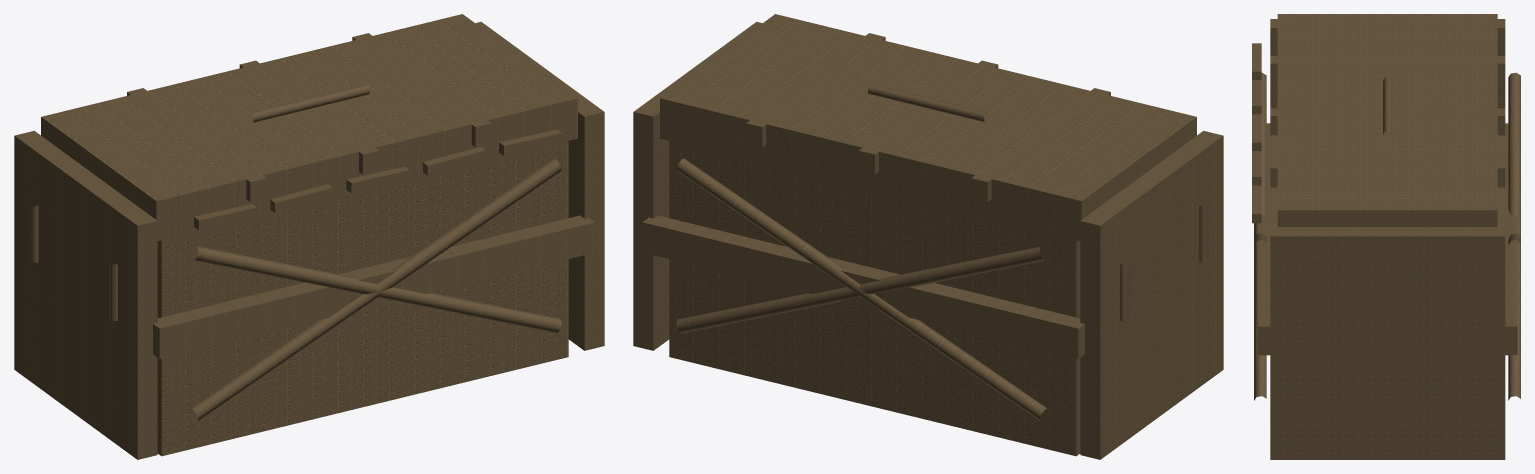
Rendered from ammo-crate.glb.
3 views of the same model, side by side, from view 1: azimuth 30°, elevation 25°; view 2: azimuth 150°, elevation 25°; view 3: azimuth 270°, elevation 25° (orthographic). The views are drawn at different scales.
Parts seen in each view (by area): view 1: LOD0; view 2: LOD0; view 3: LOD0.
Part boxes in pixels (<box>): LOD0: <box>14,14,604,459</box>; LOD0: <box>633,14,1223,459</box>; LOD0: <box>1252,14,1520,459</box>.
Bounding box in the file's own units: 1.2 × 0.65 × 0.62.
1 material, 1 textured.
